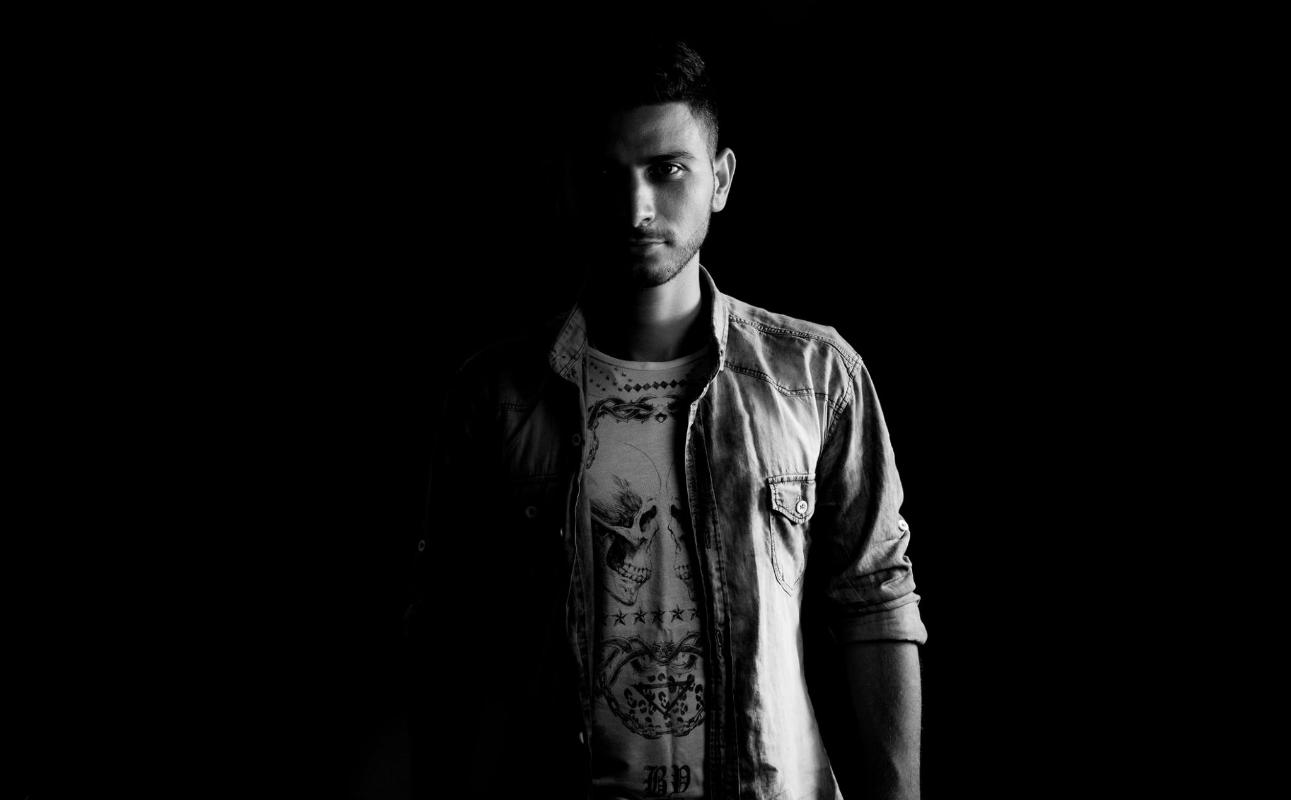Person: (474, 34, 938, 800)
